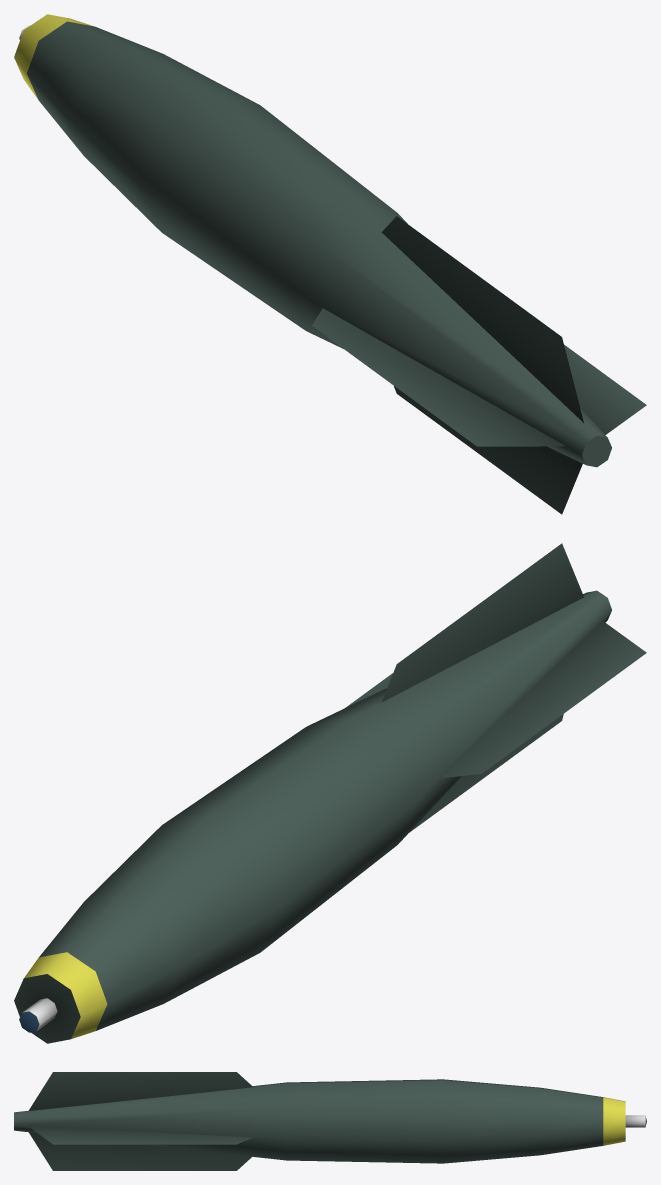
3 renders of one model, top to bottom at view 1: azimuth 30°, elevation 25°; view 2: azimuth 150°, elevation 25°; view 3: azimuth 270°, elevation 25°, orthographic. The views are drawn at different scales.
Visible parts, largest first — view 1: body|Green, body|yellow; view 2: body|Green, body|yellow; view 3: body|Green, body|yellow, body|white.
Boxes of the visible parts, <box> form: body|Green: <box>27,21,646,514</box>; body|yellow: <box>14,14,94,98</box>; body|Green: <box>14,543,646,1043</box>; body|yellow: <box>24,952,107,1038</box>; body|Green: <box>14,1072,603,1170</box>; body|yellow: <box>603,1097,625,1145</box>; body|white: <box>625,1115,645,1127</box>.
Bounding box in the file's own units: 0.3966 × 0.3966 × 2.3.
